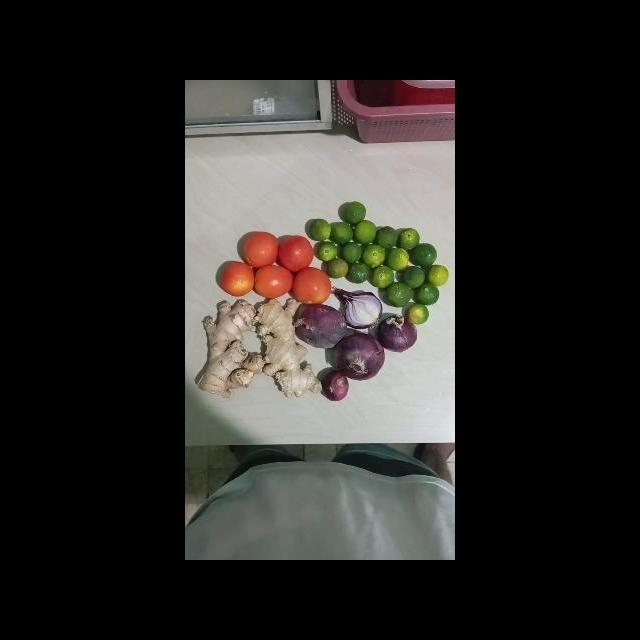ginger: (189, 297, 273, 401), (252, 296, 326, 398)
onion: (324, 283, 386, 335), (330, 331, 386, 383), (293, 303, 348, 352), (375, 312, 418, 354), (319, 369, 351, 404)
